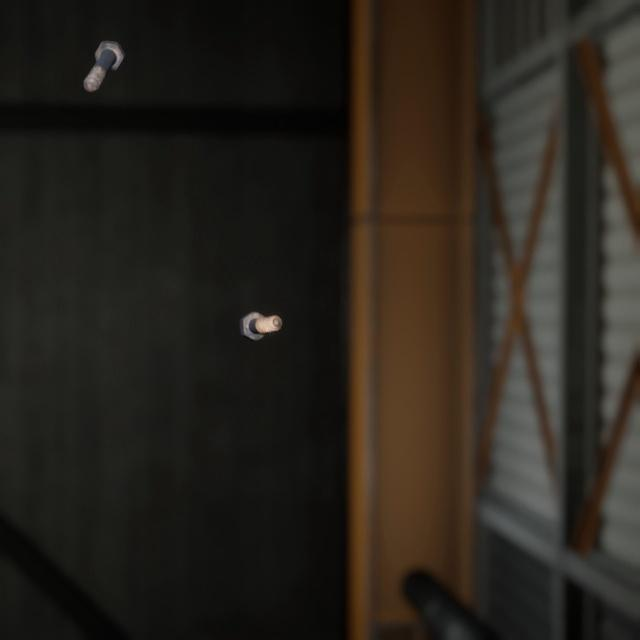bolt: (78, 26, 129, 86), (235, 289, 286, 327)
